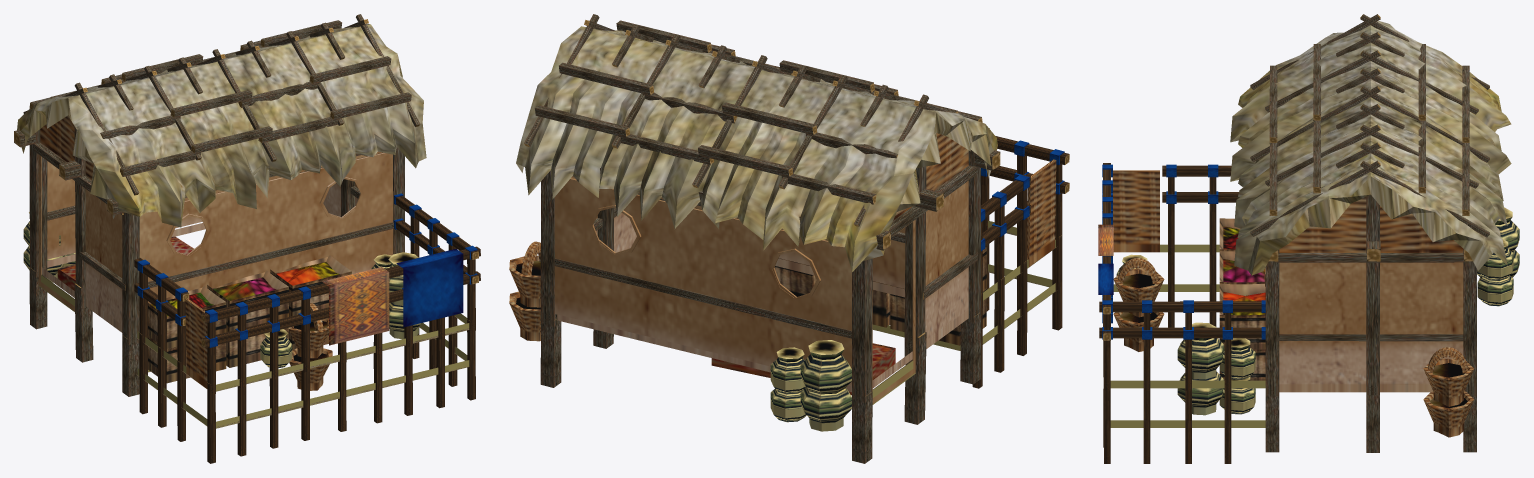
File: house_2.dae
3 renders of one model, left to right at view 1: azimuth 30°, elevation 25°; view 2: azimuth 150°, elevation 25°; view 3: azimuth 270°, elevation 25°, orthographic. The views are drawn at different scales.
Visible parts, largest first — view 1: house_2; view 2: house_2; view 3: house_2.
Part boxes in pixels (box(x1,y1,x2,y2)): house_2: box(14, 14, 480, 463); house_2: box(509, 14, 1069, 463); house_2: box(1098, 14, 1519, 463).
Bounding box in the file's own units: 13.33 × 13.4 × 10.82.
